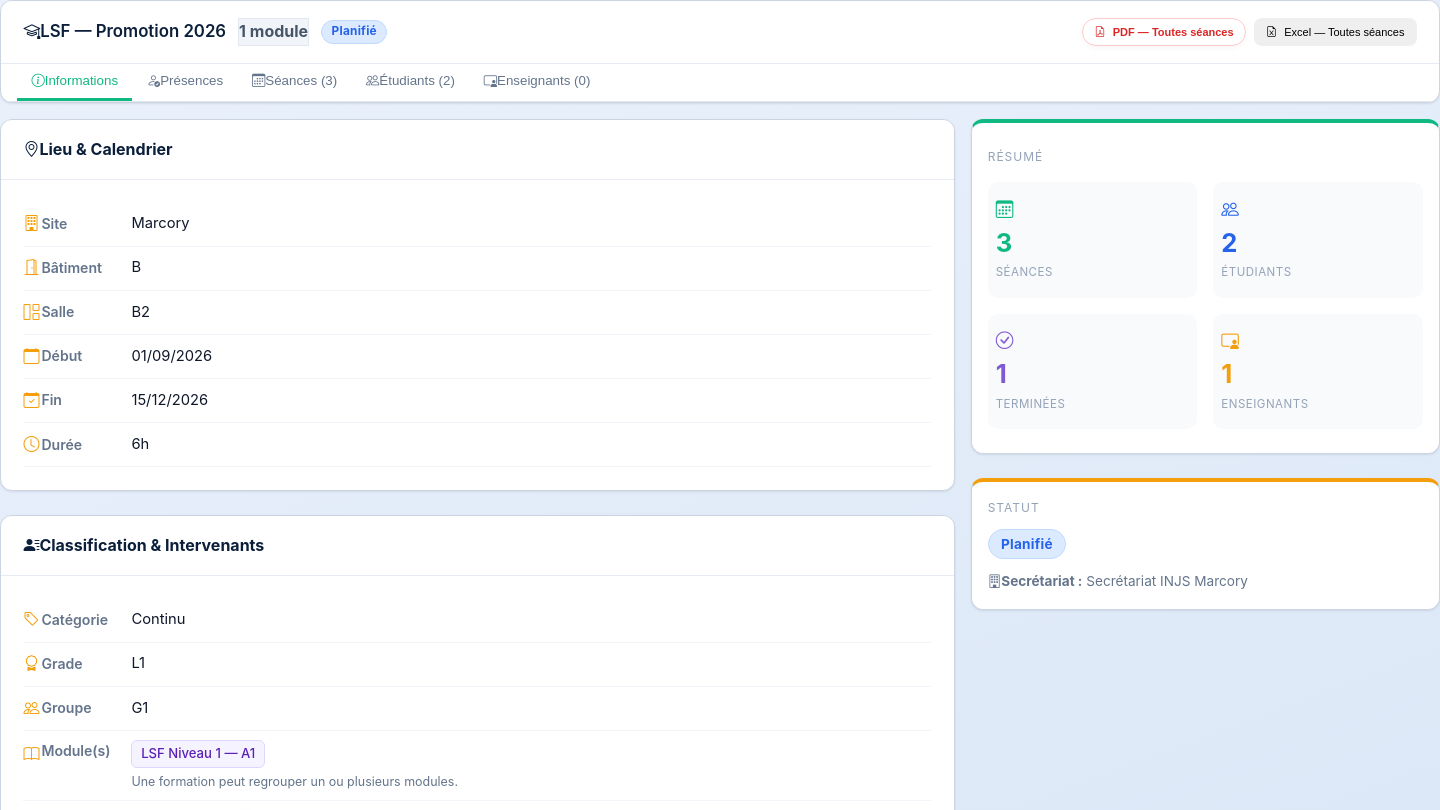
Test: FormationDetail — onglet Séances (cycle de vie) › termine une séance en cours (POST stop)
This screenshot has width=1440, height=810.
Expected: the text "LSF — Promotion 2026" is shown, [23,18,226,45]
Click the button "Séances (3)" at (295, 82), box [238,64,352,101]
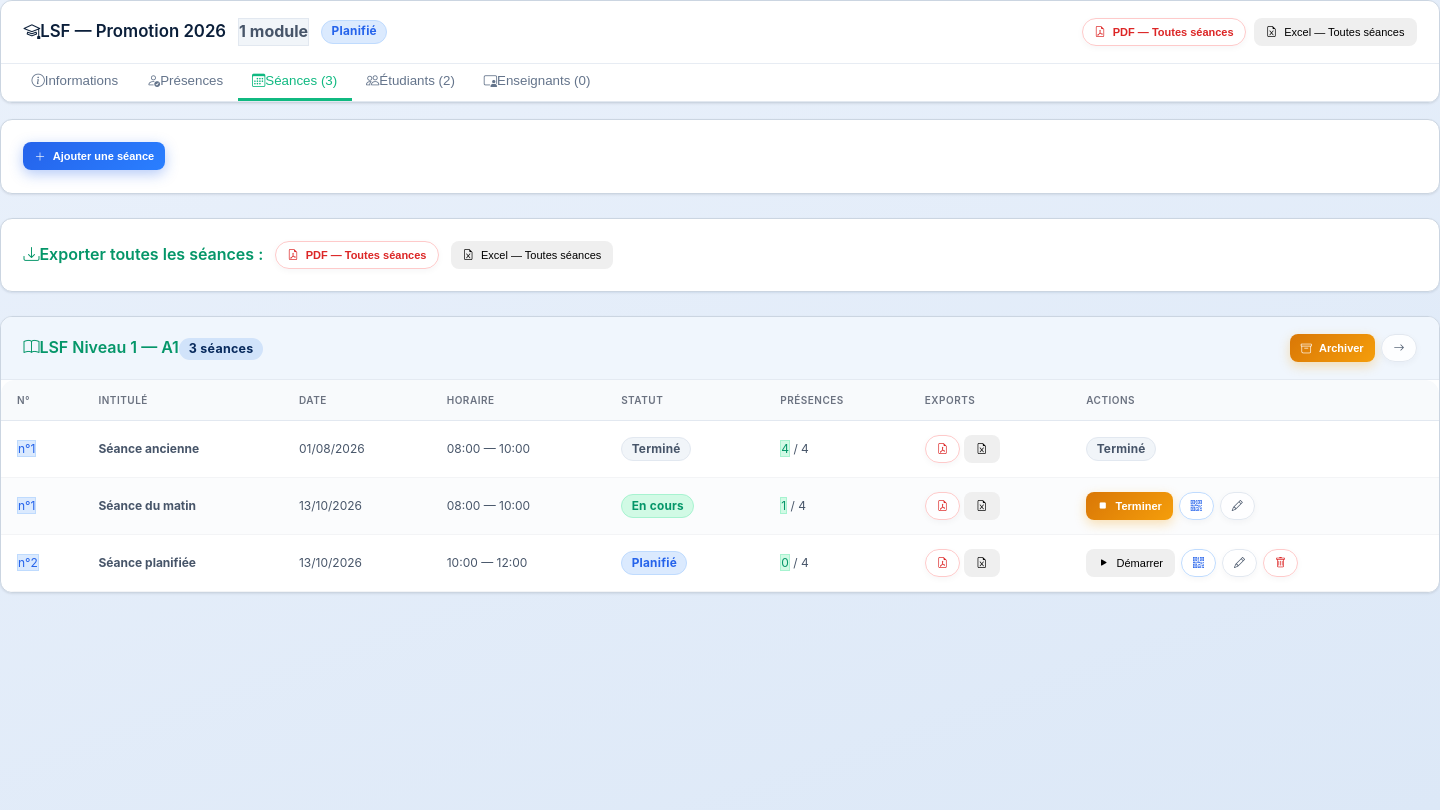
Click the button titled "Terminer" at (1130, 506), box [1086,492,1173,520]
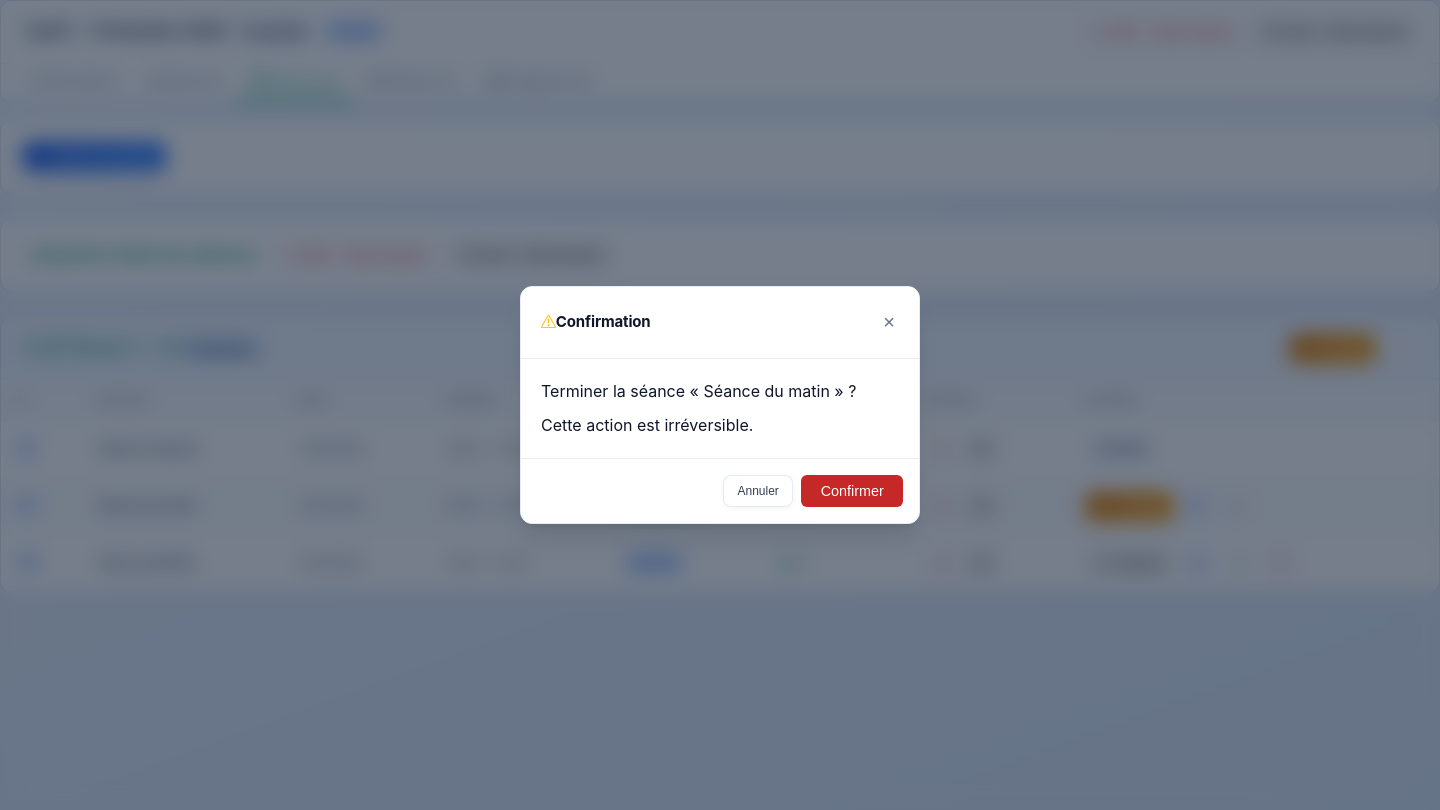
Now the text "Terminer la séance « Séance du matin » ?" is shown, box [541,379,899,404]
Click the button "Confirmer" at (852, 491), box [802,475,903,507]
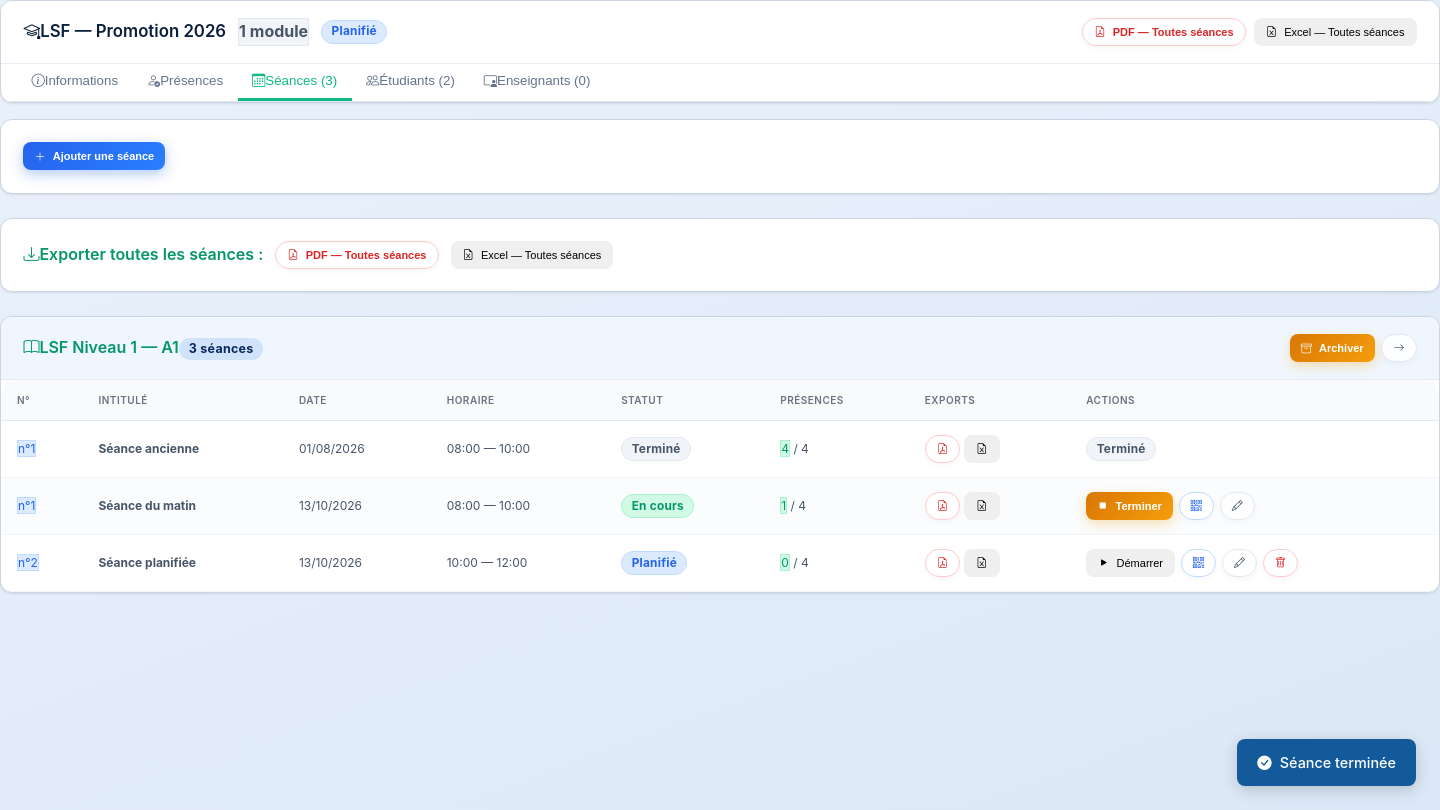
Now the text "Séance terminée" is shown, box [1237,739,1416,786]
